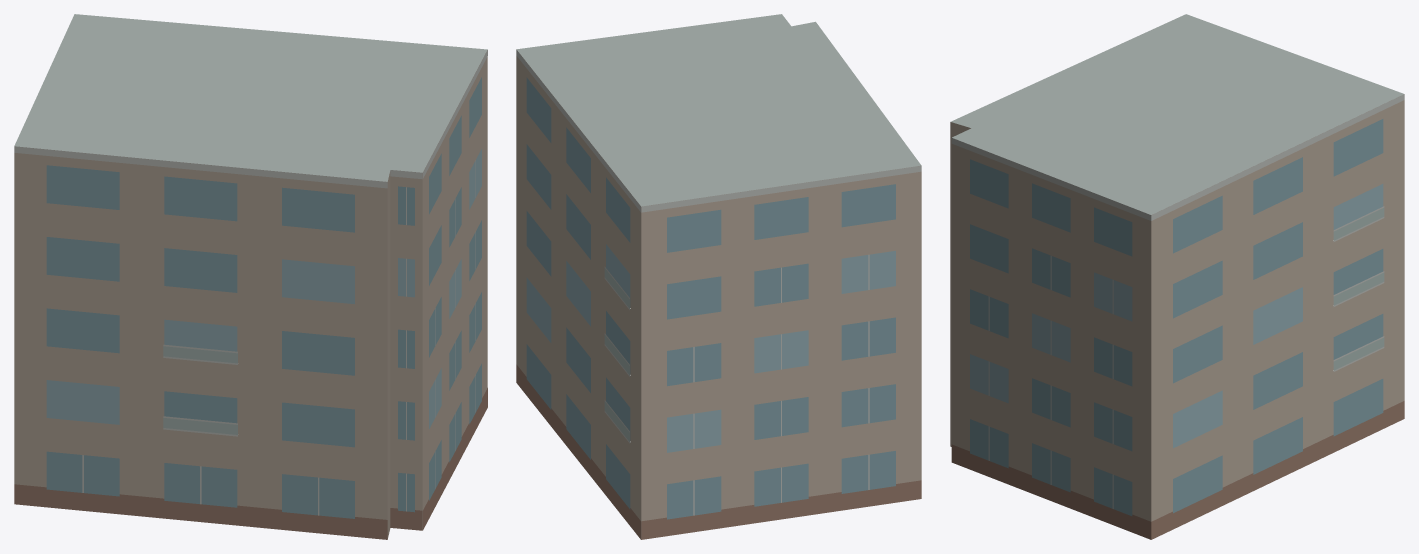
Rendered from survey-upis-32688802.glb.
3 views of the same model, side by side, from view 1: azimuth 30°, elevation 25°; view 2: azimuth 150°, elevation 25°; view 3: azimuth 270°, elevation 25° (orthographic). The views are drawn at different scales.
Parts seen in each view (by area): view 1: survey-upis-32688802.tmp; view 2: survey-upis-32688802.tmp; view 3: survey-upis-32688802.tmp.
Boxes of the visible parts, x1,y1,x2,y2 form: survey-upis-32688802.tmp: (14, 14, 487, 539); survey-upis-32688802.tmp: (516, 14, 921, 539); survey-upis-32688802.tmp: (950, 14, 1404, 539).
Bounding box in the file's own units: 17.78 × 13.38 × 16.97.
